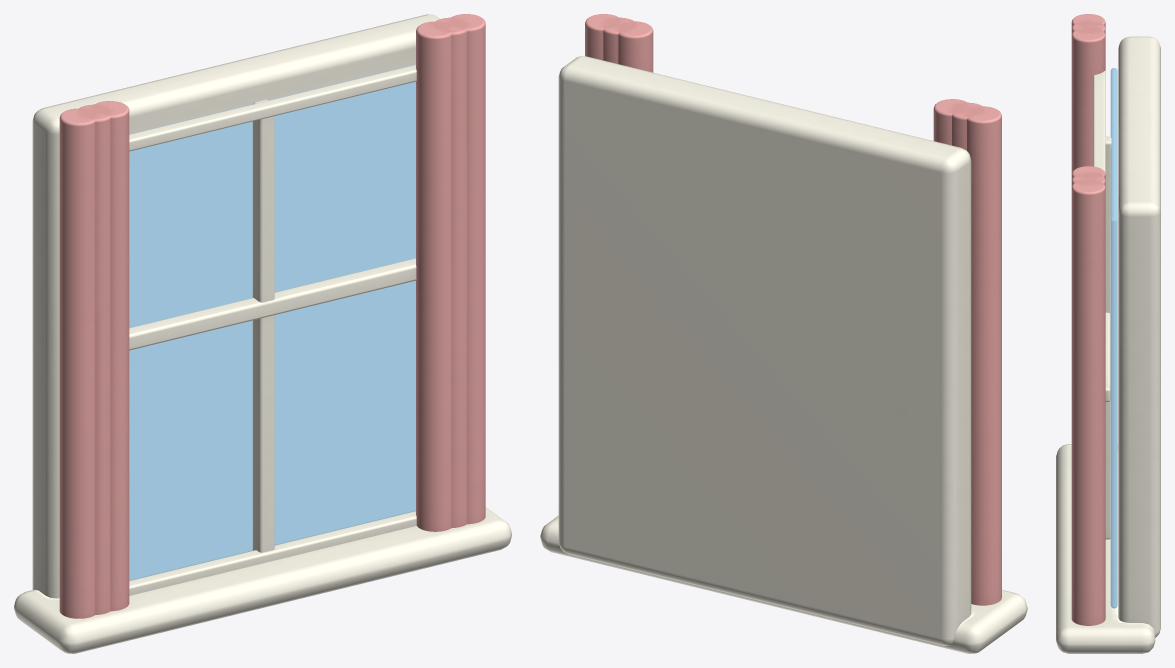
File: window7B.glb
The picture shows the model from 3 angles, left to right: view 1: azimuth 30°, elevation 25°; view 2: azimuth 150°, elevation 25°; view 3: azimuth 270°, elevation 25°; orthographic projection. The views are drawn at different scales.
Parts seen in each view (by area): view 1: Window glass, Window frame, Sill, Curtain fold, Curtain fold.005, Curtain fold.002, Curtain fold.003, Window muntin, Curtain fold.004, Curtain fold.001, Window crossbar, Opening sash rail.001 (+1 smaller); view 2: Window frame, Curtain fold, Sill, Curtain fold.005, Curtain fold.003, Curtain fold.002, Curtain fold.001, Curtain fold.004; view 3: Window frame, Curtain fold.003, Sill, Window glass, Curtain fold.002, Window muntin, Opening sash rail.001, Window crossbar, Curtain fold.005, Curtain fold, Curtain fold.001, Curtain fold.004.
Part boxes in pixels (x1=…): Window glass: x1=129, y1=64, x2=415, y2=580; Window frame: x1=32, y1=14, x2=440, y2=598; Sill: x1=14, y1=507, x2=511, y2=653; Curtain fold: x1=59, y1=108, x2=95, y2=618; Curtain fold.005: x1=416, y1=21, x2=451, y2=531; Curtain fold.002: x1=93, y1=101, x2=129, y2=611; Curtain fold.003: x1=449, y1=14, x2=485, y2=524; Window muntin: x1=252, y1=99, x2=274, y2=552; Curtain fold.004: x1=434, y1=17, x2=467, y2=527; Curtain fold.001: x1=78, y1=104, x2=110, y2=614; Window crossbar: x1=129, y1=258, x2=416, y2=350; Opening sash rail.001: x1=129, y1=64, x2=416, y2=151; Window frame: x1=558, y1=56, x2=971, y2=645; Curtain fold: x1=966, y1=106, x2=1001, y2=605; Sill: x1=540, y1=515, x2=1027, y2=653; Curtain fold.005: x1=618, y1=21, x2=653, y2=72; Curtain fold.003: x1=585, y1=14, x2=619, y2=60; Curtain fold.002: x1=933, y1=99, x2=968, y2=145; Curtain fold.001: x1=951, y1=102, x2=983, y2=150; Curtain fold.004: x1=603, y1=17, x2=635, y2=63; Window frame: x1=1118, y1=36, x2=1160, y2=637; Curtain fold.003: x1=1071, y1=179, x2=1105, y2=625; Sill: x1=1056, y1=444, x2=1155, y2=653; Window glass: x1=1110, y1=68, x2=1117, y2=608; Curtain fold.002: x1=1071, y1=27, x2=1105, y2=173; Window muntin: x1=1105, y1=136, x2=1111, y2=539; Opening sash rail.001: x1=1093, y1=70, x2=1105, y2=173; Window crossbar: x1=1105, y1=312, x2=1110, y2=402; Curtain fold.005: x1=1071, y1=166, x2=1105, y2=180; Curtain fold: x1=1071, y1=14, x2=1105, y2=27; Curtain fold.001: x1=1071, y1=20, x2=1105, y2=34; Curtain fold.004: x1=1071, y1=173, x2=1105, y2=186.
Bounding box in the file's own units: 1.61 × 1.78 × 0.37.
